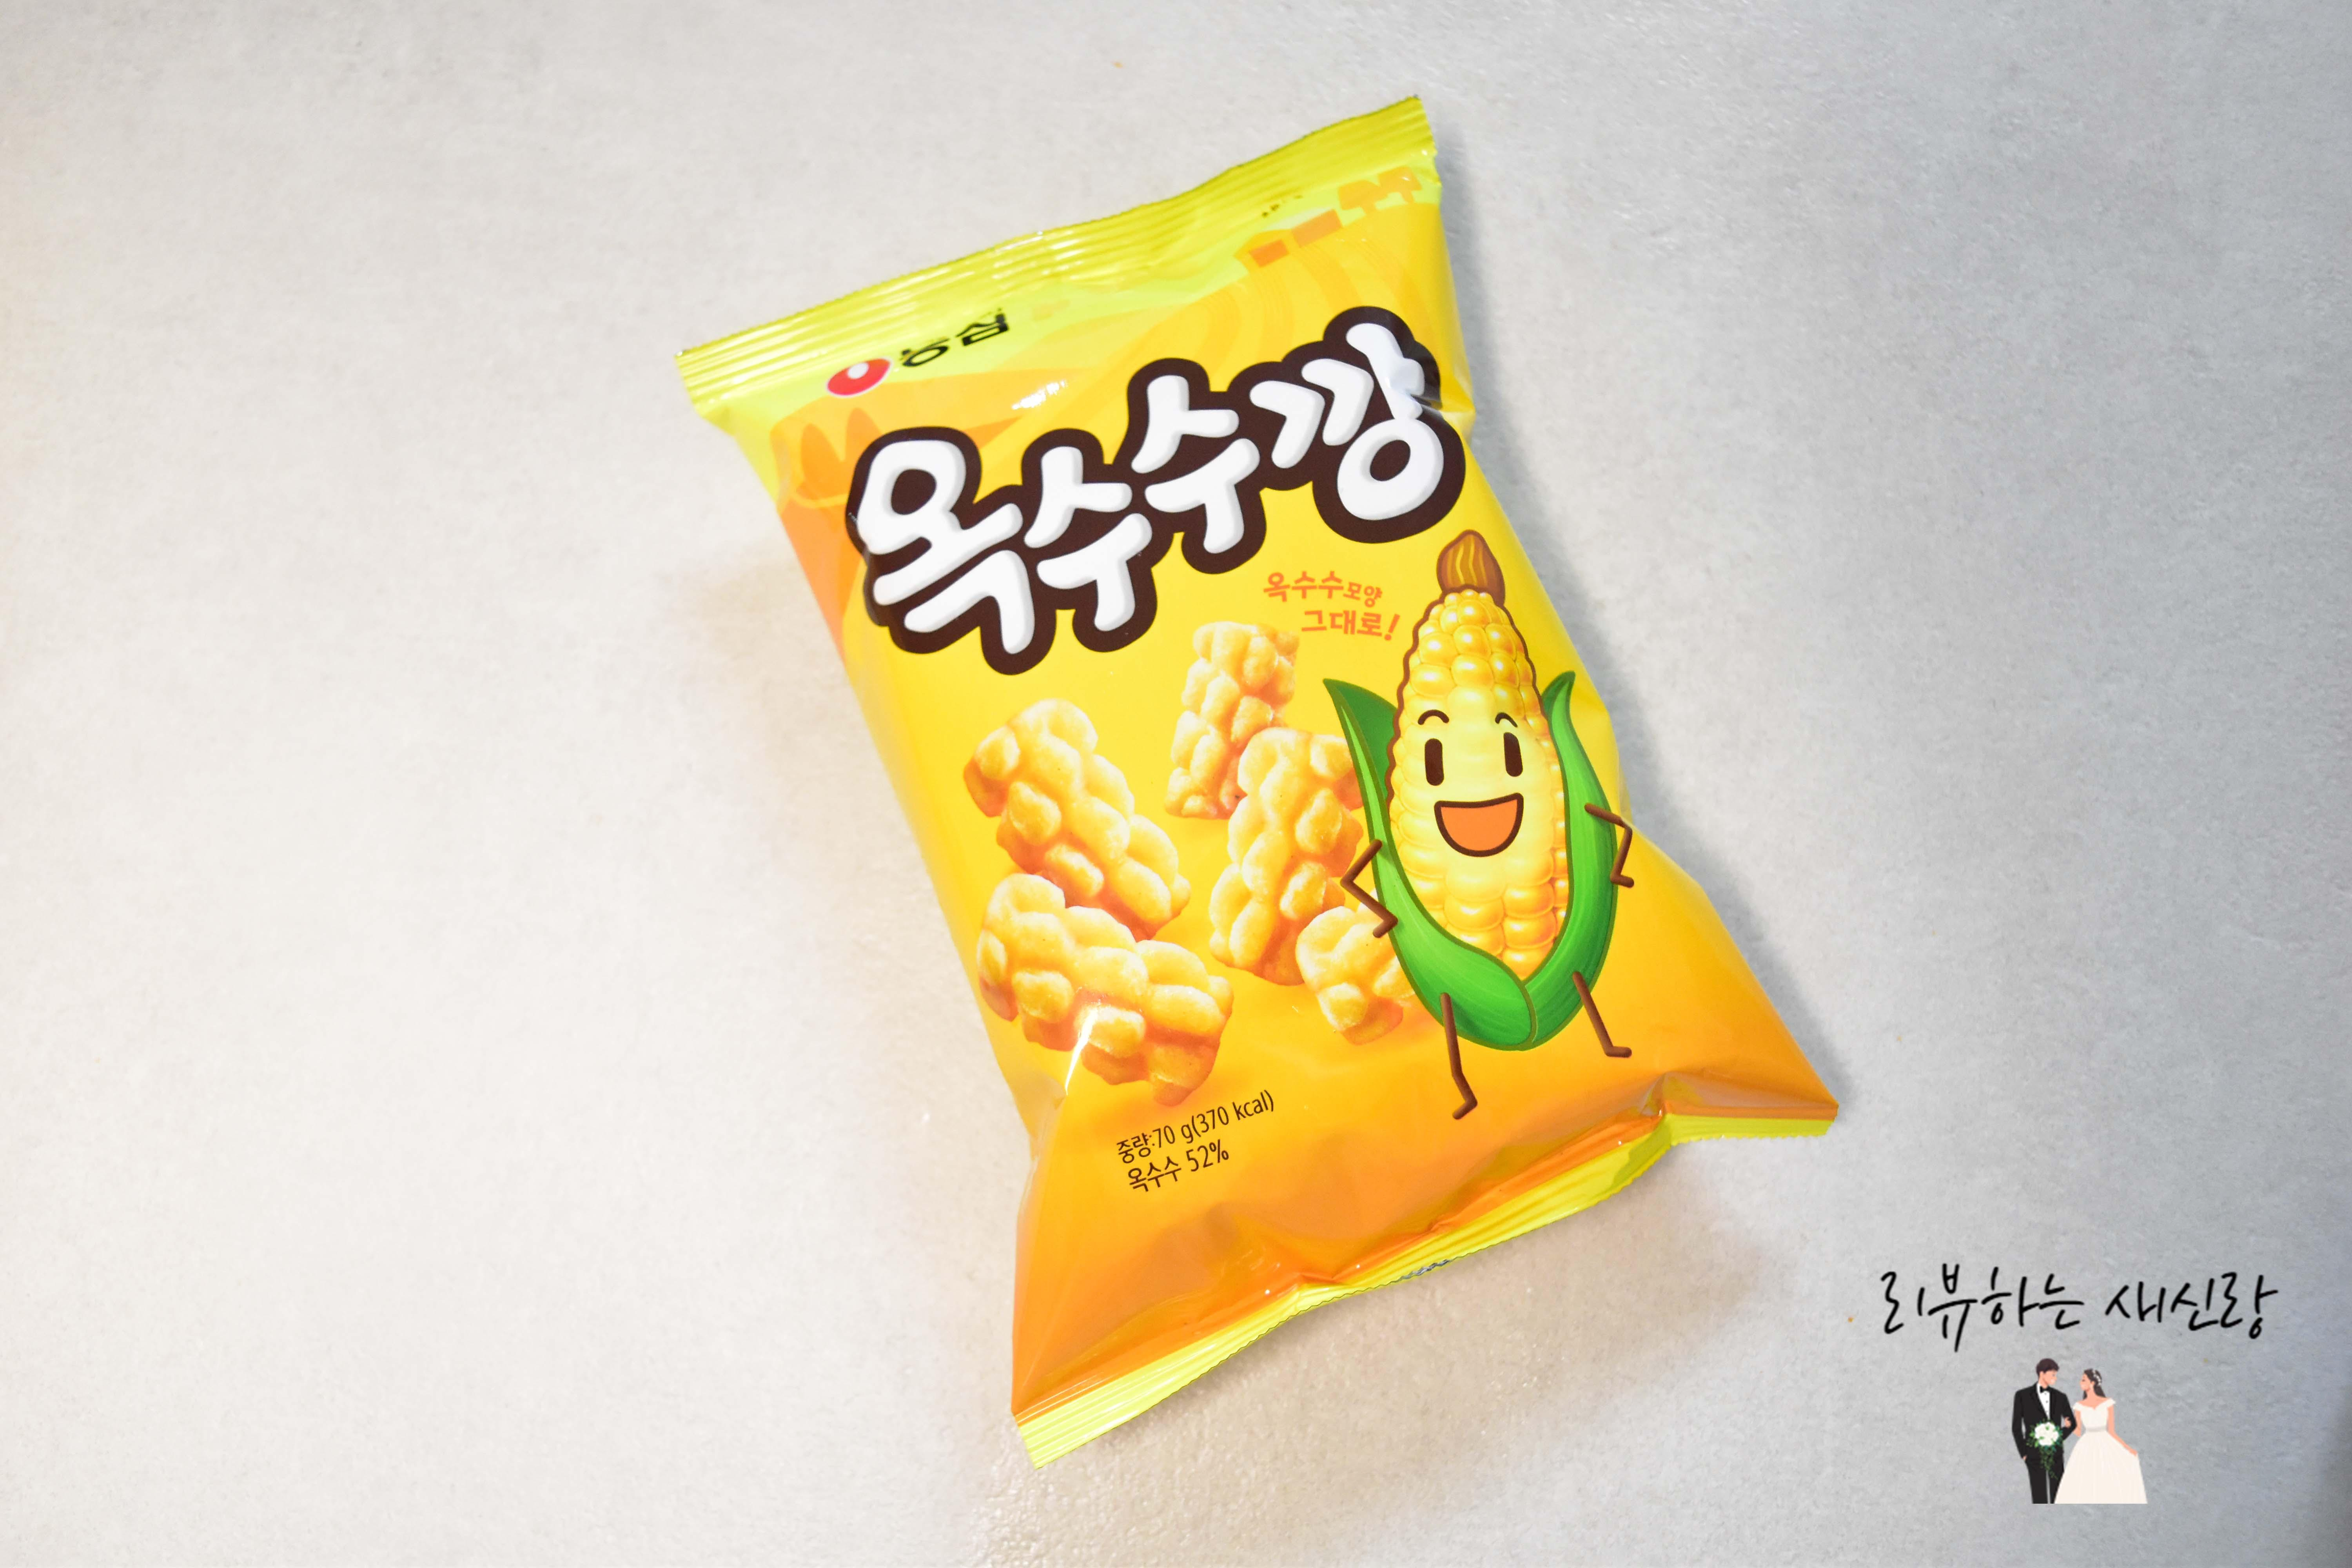snack: (683, 84, 1841, 1468)
